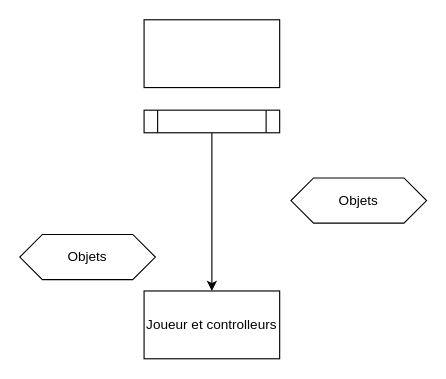
The diagram is 446 pixels wide and 379 high, and some of its shapes have lost their labels. The centre of each missing label's shape, as x and y in pixels:
Kinect: (x=211, y=121)
Projection: (x=211, y=53)
